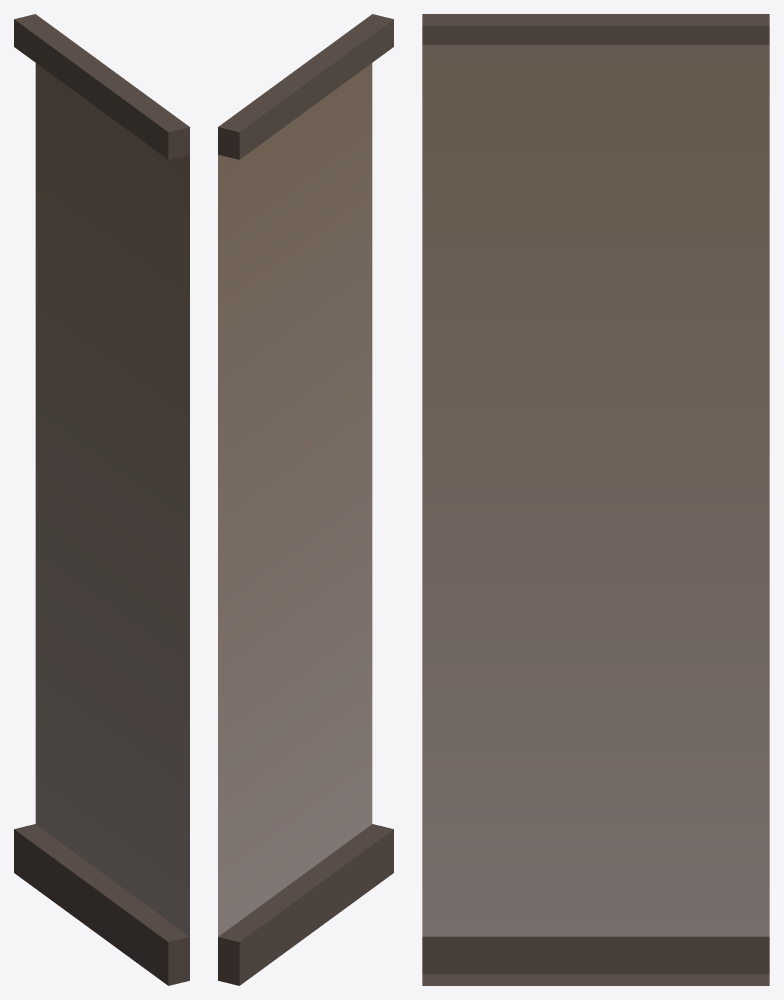
Rendered from B01_wall_1.fbx.
3 views of the same model, side by side, from view 1: azimuth 30°, elevation 25°; view 2: azimuth 150°, elevation 25°; view 3: azimuth 270°, elevation 25° (orthographic). The views are drawn at different scales.
Parts seen in each view (by area): view 1: B01_wall_1; view 2: B01_wall_1; view 3: B01_wall_1.
Boxes of the visible parts, x1,y1,x2,y2 form: B01_wall_1: (14, 14, 189, 985); B01_wall_1: (218, 14, 393, 985); B01_wall_1: (422, 14, 769, 985).
Bounding box in the file's own units: 8.03 × 305 × 100.
